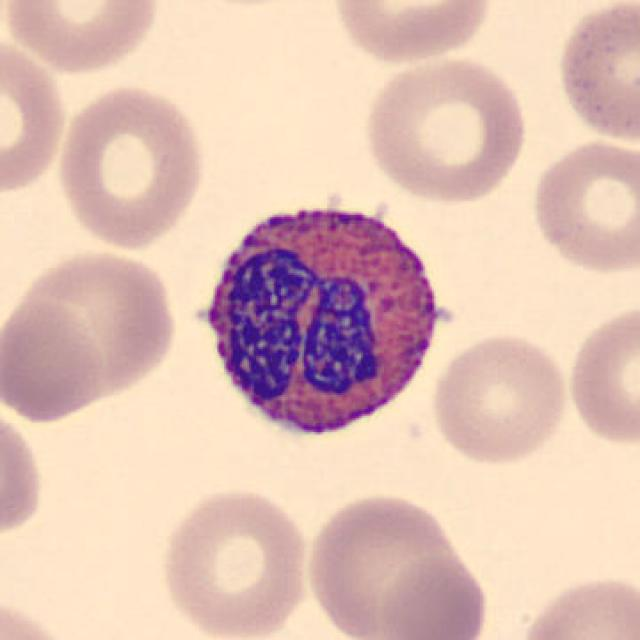Eosinophil: (187, 180, 457, 456)
RBC: (5, 243, 182, 418), (300, 486, 479, 640), (52, 81, 210, 252), (359, 51, 533, 206), (154, 483, 314, 638), (427, 328, 572, 467), (526, 134, 638, 279), (2, 294, 106, 426), (551, 0, 640, 148), (2, 0, 165, 78), (0, 34, 71, 199), (327, 0, 494, 67), (564, 300, 638, 451), (373, 550, 492, 640), (514, 569, 638, 640), (0, 397, 48, 548), (0, 592, 80, 640)
